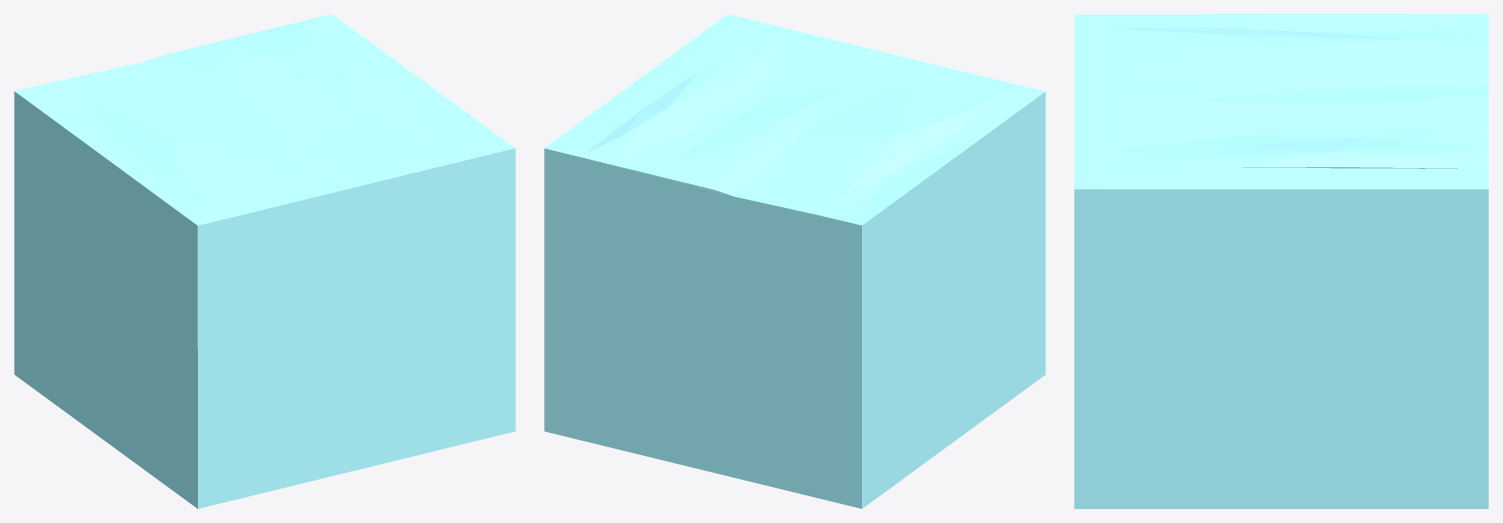
Rendered from water.gltf.
The picture shows the model from 3 angles, left to right: view 1: azimuth 30°, elevation 25°; view 2: azimuth 150°, elevation 25°; view 3: azimuth 270°, elevation 25°; orthographic projection. The views are drawn at different scales.
Visible parts, largest first — view 1: basic_cube.010; view 2: basic_cube.010; view 3: basic_cube.010.
Part boxes in pixels (box(x1,y1,x2,y2)): basic_cube.010: box(14, 14, 515, 508); basic_cube.010: box(544, 14, 1045, 508); basic_cube.010: box(1074, 14, 1488, 508).
Size of the model in its own units: 2 by 1.73 by 2.
1 material, 1 textured.
